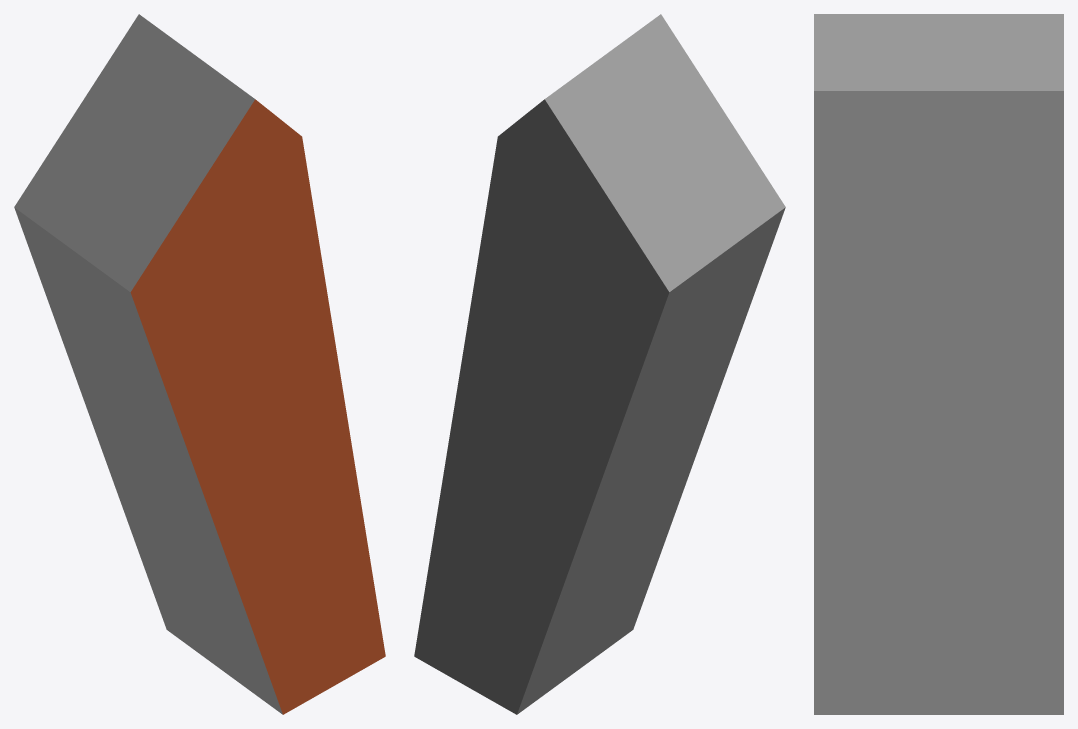
The model's file is construction_6943_assumed_A_Casa_h6m.obj.
3 views of the same model, side by side, from view 1: azimuth 30°, elevation 25°; view 2: azimuth 150°, elevation 25°; view 3: azimuth 270°, elevation 25° (orthographic). The views are drawn at different scales.
Visible parts, largest first — view 1: construction_6943_assumed_A_Casa; view 2: construction_6943_assumed_A_Casa; view 3: construction_6943_assumed_A_Casa.
Part boxes in pixels (x1,y1,x2,y2): construction_6943_assumed_A_Casa: (14,14,385,714); construction_6943_assumed_A_Casa: (414,14,785,714); construction_6943_assumed_A_Casa: (814,14,1063,714).
Bounding box in the file's own units: 7.6 × 17.71 × 6.
